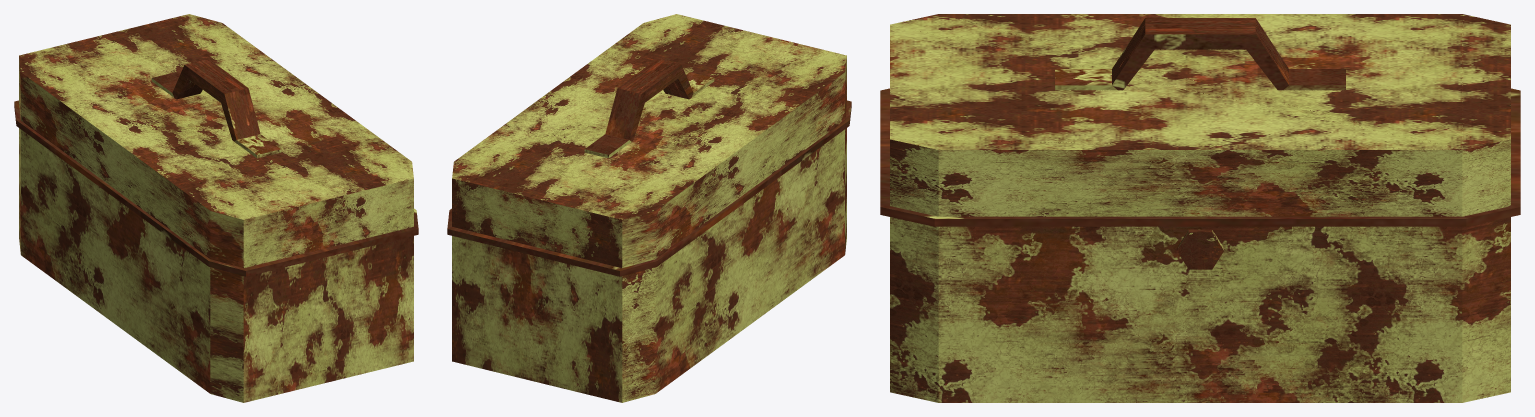
The model's file is Ammo.fbx.
3 renders of one model, left to right at view 1: azimuth 30°, elevation 25°; view 2: azimuth 150°, elevation 25°; view 3: azimuth 270°, elevation 25°, orthographic. The views are drawn at different scales.
Visible parts, largest first — view 1: Cube; view 2: Cube; view 3: Cube.
Boxes of the visible parts, x1,y1,x2,y2 form: Cube: [14, 14, 418, 402]; Cube: [447, 14, 851, 402]; Cube: [880, 14, 1520, 402].
Bounding box in the file's own units: 533 × 546 × 1025.
